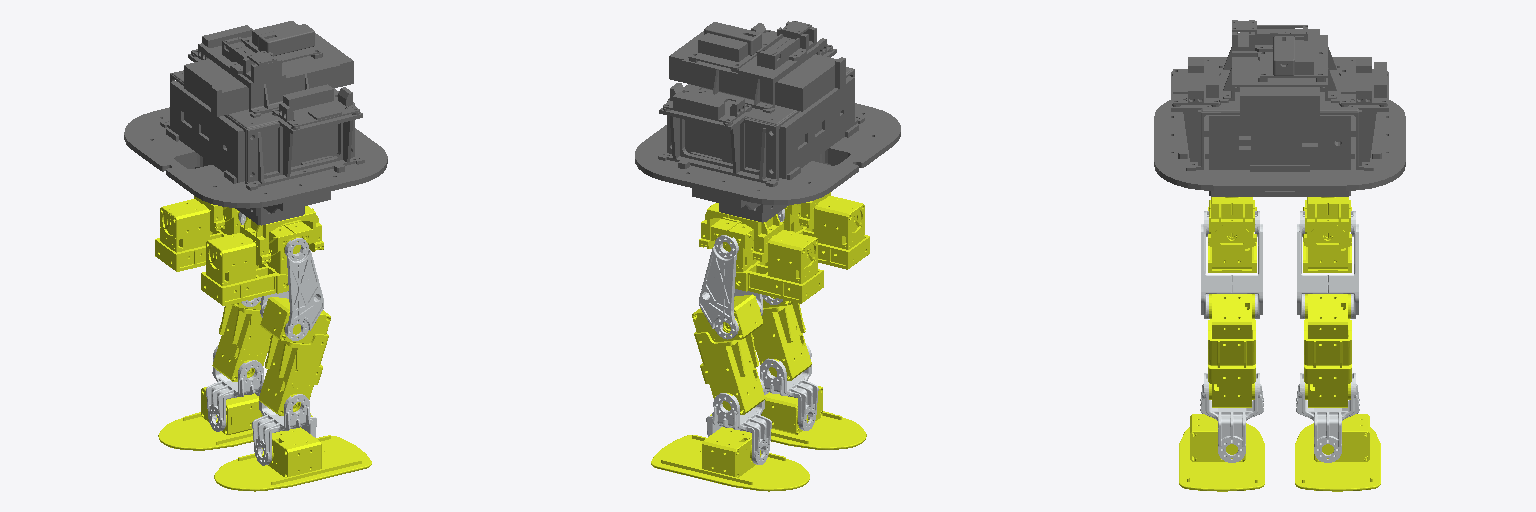
The robot description file, URDF, robot "exhx5_w_b_16":
<?xml version="1.0" encoding="utf-8"?>
<!-- This URDF was automatically created by SolidWorks to URDF Exporter! Originally created by [author] ([email redacted]) 
     Commit Version: 1.5.1-0-g916b5db  Build Version: 1.5.7152.31018
     For more information, please see http://wiki.ros.org/sw_urdf_exporter -->
<robot
  name="exhx5_w_b_16">
  <link
    name="body_link">
    <inertial>
      <origin
        xyz="0.00043545 0.00025536 0.10071"
        rpy="0 0 0" />
      <mass
        value="1.8238" />
      <inertia
        ixx="0.0025905"
        ixy="-5.6852E-06"
        ixz="-1.3106E-05"
        iyy="0.0024595"
        iyz="-1.261E-06"
        izz="0.0046407" />
    </inertial>
    <visual>
      <origin
        xyz="0 0 0"
        rpy="0 0 0" />
      <geometry>
        <mesh
          filename="../meshes/body_link.STL" />
      </geometry>
      <material
        name="">
        <color
          rgba="0.49804 0.49804 0.49804 1" />
      </material>
    </visual>
    <collision>
      <origin
        xyz="0 0 0"
        rpy="0 0 0" />
      <geometry>
        <mesh
          filename="../meshes/body_link.STL" />
      </geometry>
    </collision>
  </link>

  <link
    name="imu_link">
    <inertial>
      <origin
        xyz="-0.008387 1.336E-17 -0.0069463"
        rpy="0 0 0" />
      <mass
        value="0.0062931" />
      <inertia
        ixx="3.2242E-07"
        ixy="3.3527E-22"
        ixz="-6.9193E-08"
        iyy="9.2229E-07"
        iyz="-8.0392E-22"
        izz="1.1018E-06" />
    </inertial>
    <visual>
      <origin
        xyz="0 0 0"
        rpy="0 0 0" />
      <geometry>
        <mesh
          filename="../meshes/imu_link.STL" />
      </geometry>
      <material
        name="">
        <color
          rgba="0.79216 0.81961 0.93333 1" />
      </material>
    </visual>
    <collision>
      <origin
        xyz="0 0 0"
        rpy="0 0 0" />
      <geometry>
        <mesh
          filename="../meshes/imu_link.STL" />
      </geometry>
    </collision>
  </link>
  <joint
    name="imu"
    type="fixed">
    <origin
      xyz="0 0 0.0492"
      rpy="0 0 0" />
    <parent
      link="body_link" />
    <child
      link="imu_link" />
    <axis
      xyz="0 0 0" />
    <limit
      lower="-3.14"
      upper="3.14"
      effort="4"
      velocity="4" />
  </joint>
  <link
    name="l_hip_g_link">
    <inertial>
      <origin
        xyz="-0.0043797 -8.6604E-08 0.011813"
        rpy="0 0 0" />
      <mass
        value="0.061008" />
      <inertia
        ixx="1.167E-05"
        ixy="7.1767E-11"
        ixz="9.1442E-09"
        iyy="2.2342E-05"
        iyz="2.5177E-11"
        izz="2.4892E-05" />
    </inertial>
    <visual>
      <origin
        xyz="0 0 0"
        rpy="0 0 0" />
      <geometry>
        <mesh
          filename="../meshes/l_hip_g_link.STL" />
      </geometry>
      <material
        name="">
        <color
          rgba="0.9451 1 0.18431 1" />
      </material>
    </visual>
    <collision>
      <origin
        xyz="0 0 0"
        rpy="0 0 0" />
      <geometry>
        <mesh
          filename="../meshes/l_hip_g_link.STL" />
      </geometry>
    </collision>
  </link>
  <joint
    name="l_hip_g"
    type="fixed">
    <origin
      xyz=".001 0.04 0"
      rpy="0 0 0" />
    <parent
      link="body_link" />
    <child
      link="l_hip_g_link" />
    <axis
      xyz="0 0 0" />
  </joint>
  <link
    name="l_hip_roll_link">
    <inertial>
      <origin
        xyz="0.013831 0.00033457 0.025453"
        rpy="0 0 0" />
      <mass
        value="0.2969" />
      <inertia
        ixx="7.8136E-05"
        ixy="7.265E-07"
        ixz="-6.9809E-08"
        iyy="9.2183E-05"
        iyz="-5.6881E-11"
        izz="7.1034E-05" />
    </inertial>
    <visual>
      <origin
        xyz="0 0 0"
        rpy="0 0 0" />
      <geometry>
        <mesh
          filename="../meshes/l_hip_roll_link.STL" />
      </geometry>
      <material
        name="">
        <color
          rgba="0.9451 1 0.18431 1" />
      </material>
    </visual>
    <collision>
      <origin
        xyz="0 0 0"
        rpy="0 0 0" />
      <geometry>
        <mesh
          filename="../meshes/l_hip_roll_link.STL" />
      </geometry>
    </collision>
  </link>
  <joint
    name="l_hip_roll"
    type="revolute">
    <origin
      xyz="0 0 0"
      rpy="3.1416 1.5708 0" />
    <parent
      link="l_hip_g_link" />
    <child
      link="l_hip_roll_link" />
    <axis
      xyz="0 0 1" />
    <limit
      lower="-3.14"
      upper="3.14"
      effort="4"
      velocity="4" />
  </joint>
  <link
    name="l_hip_pitch_link">
    <inertial>
      <origin
        xyz="0.041225 -0.007321 -5.0713E-08"
        rpy="0 0 0" />
      <mass
        value="0.051592" />
      <inertia
        ixx="2.7959E-05"
        ixy="2.0752E-06"
        ixz="-8.0934E-11"
        iyy="4.8156E-05"
        iyz="3.6317E-11"
        izz="2.9604E-05" />
    </inertial>
    <visual>
      <origin
        xyz="0 0 0"
        rpy="0 0 0" />
      <geometry>
        <mesh
          filename="../meshes/l_hip_pitch_link.STL" />
      </geometry>
      <material
        name="">
        <color
          rgba="0.89804 0.91765 0.92941 1" />
      </material>
    </visual>
    <collision>
      <origin
        xyz="0 0 0"
        rpy="0 0 0" />
      <geometry>
        <mesh
          filename="../meshes/l_hip_pitch_link.STL" />
      </geometry>
    </collision>
  </link>
  <joint
    name="l_hip_pitch"
    type="revolute">
    <origin
      xyz="0 0 0"
      rpy="1.5708 0 0" />
    <parent
      link="l_hip_roll_link" />
    <child
      link="l_hip_pitch_link" />
    <axis
      xyz="0 0 1" />
    <limit
      lower="-3.14"
      upper="3.14"
      effort="4"
      velocity="4" />
  </joint>
  <link
    name="l_knee_link">
    <inertial>
      <origin
        xyz="0.033756 -0.0084189 -6.6115E-09"
        rpy="0 0 0" />
      <mass
        value="0.28878" />
      <inertia
        ixx="6.6724E-05"
        ixy="7.5004E-07"
        ixz="-8.4578E-07"
        iyy="6.5699E-05"
        iyz="4.1085E-07"
        izz="7.0381E-05" />
    </inertial>
    <visual>
      <origin
        xyz="0 0 0"
        rpy="0 0 0" />
      <geometry>
        <mesh
          filename="../meshes/l_knee_link.STL" />
      </geometry>
      <material
        name="">
        <color
          rgba="0.9451 1 0.18431 1" />
      </material>
    </visual>
    <collision>
      <origin
        xyz="0 0 0"
        rpy="0 0 0" />
      <geometry>
        <mesh
          filename="../meshes/l_knee_link.STL" />
      </geometry>
    </collision>
  </link>
  <joint
    name="l_knee"
    type="revolute">
    <origin
      xyz="0.075954 0 0"
      rpy="0 0 0" />
    <parent
      link="l_hip_pitch_link" />
    <child
      link="l_knee_link" />
    <axis
      xyz="0 0 1" />
    <limit
      lower="-3.14"
      upper="3.14"
      effort="4"
      velocity="4" />
  </joint>
  <link
    name="l_ank_pitch_link">
    <inertial>
      <origin
        xyz="0.022786 -7.3909E-09 -7.1981E-06"
        rpy="0 0 0" />
      <mass
        value="0.044772" />
      <inertia
        ixx="1.777E-05"
        ixy="8.555E-14"
        ixz="-3.3713E-09"
        iyy="1.7119E-05"
        iyz="1.7593E-11"
        izz="1.8661E-05" />
    </inertial>
    <visual>
      <origin
        xyz="0 0 0"
        rpy="0 0 0" />
      <geometry>
        <mesh
          filename="../meshes/l_ank_pitch_link.STL" />
      </geometry>
      <material
        name="">
        <color
          rgba="0.89804 0.91765 0.92941 1" />
      </material>
    </visual>
    <collision>
      <origin
        xyz="0 0 0"
        rpy="0 0 0" />
      <geometry>
        <mesh
          filename="../meshes/l_ank_pitch_link.STL" />
      </geometry>
    </collision>
  </link>
  <joint
    name="l_ank_pitch"
    type="revolute">
    <origin
      xyz="0.074602 0 0"
      rpy="3.1416 0 0" />
    <parent
      link="l_knee_link" />
    <child
      link="l_ank_pitch_link" />
    <axis
      xyz="0 0 1" />
    <limit
      lower="-3.14"
      upper="3.14"
      effort="4"
      velocity="4" />
  </joint>
  <link
    name="l_ank_roll_link">
    <inertial>
      <origin
        xyz="0.0047069 0.010728 0.0015299"
        rpy="0 0 0" />
      <mass
        value="0.16774" />
      <inertia
        ixx="0.00012039"
        ixy="-3.7428E-09"
        ixz="4.4069E-08"
        iyy="8.7735E-05"
        iyz="7.0469E-07"
        izz="4.7866E-05" />
    </inertial>
    <visual>
      <origin
        xyz="0 0 0"
        rpy="0 0 0" />
      <geometry>
        <mesh
          filename="../meshes/l_ank_roll_link.STL" />
      </geometry>
      <material
        name="">
        <color
          rgba="0.9451 1 0.18431 1" />
      </material>
    </visual>
    <collision>
      <origin
        xyz="0 0 0"
        rpy="0 0 0" />
      <geometry>
        <mesh
          filename="../meshes/l_ank_roll_link.STL" />
      </geometry>
    </collision>
  </link>
  <joint
    name="l_ank_roll"
    type="revolute">
    <origin
      xyz="0.0465 0 0"
      rpy="-1.5708 0 0" />
    <parent
      link="l_ank_pitch_link" />
    <child
      link="l_ank_roll_link" />
    <axis
      xyz="0 0 1" />
    <limit
      lower="-3.14"
      upper="3.14"
      effort="4"
      velocity="4" />
  </joint>
  <link
    name="r_hip_g_link">
    <inertial>
      <origin
        xyz="-0.0043797 -8.6604E-08 0.011813"
        rpy="0 0 0" />
      <mass
        value="0.061008" />
      <inertia
        ixx="1.167E-05"
        ixy="7.1767E-11"
        ixz="9.1442E-09"
        iyy="2.2342E-05"
        iyz="2.5177E-11"
        izz="2.4892E-05" />
    </inertial>
    <visual>
      <origin
        xyz="0 0 0"
        rpy="0 0 0" />
      <geometry>
        <mesh
          filename="../meshes/r_hip_g_link.STL" />
      </geometry>
      <material
        name="">
        <color
          rgba="0.9451 1 0.18431 1" />
      </material>
    </visual>
    <collision>
      <origin
        xyz="0 0 0"
        rpy="0 0 0" />
      <geometry>
        <mesh
          filename="../meshes/r_hip_g_link.STL" />
      </geometry>
    </collision>
  </link>
  <joint
    name="r_hip_g"
    type="fixed">
    <origin
      xyz=".001 -.04 0"
      rpy="0 0 0" />
    <parent
      link="body_link" />
    <child
      link="r_hip_g_link" />
    <axis
      xyz="0 0 0" />
  </joint>
  <link
    name="r_hip_roll_link">
    <inertial>
      <origin
        xyz="0.013831 0.00033457 0.025453"
        rpy="0 0 0" />
      <mass
        value="0.2969" />
      <inertia
        ixx="7.8136E-05"
        ixy="7.265E-07"
        ixz="-6.9809E-08"
        iyy="9.2183E-05"
        iyz="-5.6881E-11"
        izz="7.1034E-05" />
    </inertial>
    <visual>
      <origin
        xyz="0 0 0"
        rpy="0 0 0" />
      <geometry>
        <mesh
          filename="../meshes/r_hip_roll_link.STL" />
      </geometry>
      <material
        name="">
        <color
          rgba="0.9451 1 0.18431 1" />
      </material>
    </visual>
    <collision>
      <origin
        xyz="0 0 0"
        rpy="0 0 0" />
      <geometry>
        <mesh
          filename="../meshes/r_hip_roll_link.STL" />
      </geometry>
    </collision>
  </link>
  <joint
    name="r_hip_roll"
    type="revolute">
    <origin
      xyz="0 0 0"
      rpy="3.1416 1.5708 0" />
    <parent
      link="r_hip_g_link" />
    <child
      link="r_hip_roll_link" />
    <axis
      xyz="0 0 1" />
    <limit
      lower="-3.14"
      upper="3.14"
      effort="4"
      velocity="4" />
  </joint>
  <link
    name="r_hip_pitch_link">
    <inertial>
      <origin
        xyz="0.041225 0.007321 5.0713E-08"
        rpy="0 0 0" />
      <mass
        value="0.051592" />
      <inertia
        ixx="2.7959E-05"
        ixy="-2.0752E-06"
        ixz="8.0934E-11"
        iyy="4.8156E-05"
        iyz="3.6317E-11"
        izz="2.9604E-05" />
    </inertial>
    <visual>
      <origin
        xyz="0 0 0"
        rpy="0 0 0" />
      <geometry>
        <mesh
          filename="../meshes/r_hip_pitch_link.STL" />
      </geometry>
      <material
        name="">
        <color
          rgba="0.89804 0.91765 0.92941 1" />
      </material>
    </visual>
    <collision>
      <origin
        xyz="0 0 0"
        rpy="0 0 0" />
      <geometry>
        <mesh
          filename="../meshes/r_hip_pitch_link.STL" />
      </geometry>
    </collision>
  </link>
  <joint
    name="r_hip_pitch"
    type="revolute">
    <origin
      xyz="0 0 0"
      rpy="-1.5708 0 0" />
    <parent
      link="r_hip_roll_link" />
    <child
      link="r_hip_pitch_link" />
    <axis
      xyz="0 0 1" />
    <limit
      lower="-3.14"
      upper="3.14"
      effort="4"
      velocity="4" />
  </joint>
  <link
    name="r_knee_link">
    <inertial>
      <origin
        xyz="0.033757 0.0084176 6.6115E-09"
        rpy="0 0 0" />
      <mass
        value="0.28878" />
      <inertia
        ixx="6.6724E-05"
        ixy="-7.5008E-07"
        ixz="8.458E-07"
        iyy="6.5699E-05"
        iyz="4.1081E-07"
        izz="7.0381E-05" />
    </inertial>
    <visual>
      <origin
        xyz="0 0 0"
        rpy="0 0 0" />
      <geometry>
        <mesh
          filename="../meshes/r_knee_link.STL" />
      </geometry>
      <material
        name="">
        <color
          rgba="0.9451 1 0.18431 1" />
      </material>
    </visual>
    <collision>
      <origin
        xyz="0 0 0"
        rpy="0 0 0" />
      <geometry>
        <mesh
          filename="../meshes/r_knee_link.STL" />
      </geometry>
    </collision>
  </link>
  <joint
    name="r_knee"
    type="revolute">
    <origin
      xyz="0.075954 0 0"
      rpy="0 0 0" />
    <parent
      link="r_hip_pitch_link" />
    <child
      link="r_knee_link" />
    <axis
      xyz="0 0 1" />
    <limit
      lower="-3.14"
      upper="3.14"
      effort="4"
      velocity="4" />
  </joint>
  <link
    name="r_ank_pitch_link">
    <inertial>
      <origin
        xyz="0.025786 -7.3887E-09 -7.1981E-06"
        rpy="0 0 0" />
      <mass
        value="0.044772" />
      <inertia
        ixx="1.777E-05"
        ixy="8.5434E-14"
        ixz="-3.3713E-09"
        iyy="1.7119E-05"
        iyz="1.7592E-11"
        izz="1.8661E-05" />
    </inertial>
    <visual>
      <origin
        xyz="0 0 0"
        rpy="0 0 0" />
      <geometry>
        <mesh
          filename="../meshes/r_ank_pitch_link.STL" />
      </geometry>
      <material
        name="">
        <color
          rgba="0.89804 0.91765 0.92941 1" />
      </material>
    </visual>
    <collision>
      <origin
        xyz="0 0 0"
        rpy="0 0 0" />
      <geometry>
        <mesh
          filename="../meshes/r_ank_pitch_link.STL" />
      </geometry>
    </collision>
  </link>
  <joint
    name="r_ank_pitch"
    type="revolute">
    <origin
      xyz="0.071602 0 0"
      rpy="3.1416 0 0" />
    <parent
      link="r_knee_link" />
    <child
      link="r_ank_pitch_link" />
    <axis
      xyz="0 0 1" />
    <limit
      lower="-3.14"
      upper="3.14"
      effort="4"
      velocity="4" />
  </joint>
  <link
    name="r_ank_roll_link">
    <inertial>
      <origin
        xyz="0.0077069 -0.010728 0.0015299"
        rpy="0 0 0" />
      <mass
        value="0.16774" />
      <inertia
        ixx="0.00012039"
        ixy="3.743E-09"
        ixz="4.407E-08"
        iyy="8.7735E-05"
        iyz="-7.0467E-07"
        izz="4.7866E-05" />
    </inertial>
    <visual>
      <origin
        xyz="0 0 0"
        rpy="0 0 0" />
      <geometry>
        <mesh
          filename="../meshes/r_ank_roll_link.STL" />
      </geometry>
      <material
        name="">
        <color
          rgba="0.9451 1 0.18431 1" />
      </material>
    </visual>
    <collision>
      <origin
        xyz="0 0 0"
        rpy="0 0 0" />
      <geometry>
        <mesh
          filename="../meshes/r_ank_roll_link.STL" />
      </geometry>
    </collision>
  </link>
  <joint
    name="r_ank_roll"
    type="revolute">
    <origin
      xyz="0.0465 0 0"
      rpy="1.5708 0 0" />
    <parent
      link="r_ank_pitch_link" />
    <child
      link="r_ank_roll_link" />
    <axis
      xyz="0 0 1" />
    <limit
      lower="-3.14"
      upper="3.14"
      effort="4"
      velocity="4" />
  </joint>
  <transmission name="r_hip_roll_tran">
    <type>transmission_interface/SimpleTransmission</type>
    <joint name="r_hip_roll">
      <hardwareInterface>hardware_interface/EffortJointInterface</hardwareInterface>
    </joint>
    <actuator name="r_hip_roll_motor">
      <hardwareInterface>hardware_interface/EffortJointInterface</hardwareInterface>
      <mechanicalReduction>1</mechanicalReduction>
    </actuator>
  </transmission>
  <transmission name="r_hip_pitch_tran">
    <type>transmission_interface/SimpleTransmission</type>
    <joint name="r_hip_pitch">
      <hardwareInterface>hardware_interface/EffortJointInterface</hardwareInterface>
    </joint>
    <actuator name="r_hip_pitch_motor">
      <hardwareInterface>hardware_interface/EffortJointInterface</hardwareInterface>
      <mechanicalReduction>1</mechanicalReduction>
    </actuator>
  </transmission>
  <transmission name="r_knee_tran">
    <type>transmission_interface/SimpleTransmission</type>
    <joint name="r_knee">
      <hardwareInterface>hardware_interface/EffortJointInterface</hardwareInterface>
    </joint>
    <actuator name="r_knee_motor">
      <hardwareInterface>hardware_interface/EffortJointInterface</hardwareInterface>
      <mechanicalReduction>1</mechanicalReduction>
    </actuator>
  </transmission>
  <transmission name="r_ank_pitch_tran">
    <type>transmission_interface/SimpleTransmission</type>
    <joint name="r_ank_pitch">
      <hardwareInterface>hardware_interface/EffortJointInterface</hardwareInterface>
    </joint>
    <actuator name="r_ank_pitch_motor">
      <hardwareInterface>hardware_interface/EffortJointInterface</hardwareInterface>
      <mechanicalReduction>1</mechanicalReduction>
    </actuator>
  </transmission>
  <transmission name="r_ank_roll_tran">
    <type>transmission_interface/SimpleTransmission</type>
    <joint name="r_ank_roll">
      <hardwareInterface>hardware_interface/EffortJointInterface</hardwareInterface>
    </joint>
    <actuator name="r_ank_roll_motor">
      <hardwareInterface>hardware_interface/EffortJointInterface</hardwareInterface>
      <mechanicalReduction>1</mechanicalReduction>
    </actuator>
  </transmission>
  <transmission name="l_hip_roll_tran">
    <type>transmission_interface/SimpleTransmission</type>
    <joint name="l_hip_roll">
      <hardwareInterface>hardware_interface/EffortJointInterface</hardwareInterface>
    </joint>
    <actuator name="l_hip_roll_motor">
      <hardwareInterface>hardware_interface/EffortJointInterface</hardwareInterface>
      <mechanicalReduction>1</mechanicalReduction>
    </actuator>
  </transmission>
  <transmission name="l_hip_pitch_tran">
    <type>transmission_interface/SimpleTransmission</type>
    <joint name="l_hip_pitch">
      <hardwareInterface>hardware_interface/EffortJointInterface</hardwareInterface>
    </joint>
    <actuator name="l_hip_pitch_motor">
      <hardwareInterface>hardware_interface/EffortJointInterface</hardwareInterface>
      <mechanicalReduction>1</mechanicalReduction>
    </actuator>
  </transmission>
  <transmission name="l_knee_tran">
    <type>transmission_interface/SimpleTransmission</type>
    <joint name="l_knee">
      <hardwareInterface>hardware_interface/EffortJointInterface</hardwareInterface>
    </joint>
    <actuator name="l_knee_motor">
      <hardwareInterface>hardware_interface/EffortJointInterface</hardwareInterface>
      <mechanicalReduction>1</mechanicalReduction>
    </actuator>
  </transmission>
  <transmission name="l_ank_pitch_tran">
    <type>transmission_interface/SimpleTransmission</type>
    <joint name="l_ank_pitch">
      <hardwareInterface>hardware_interface/EffortJointInterface</hardwareInterface>
    </joint>
    <actuator name="l_ank_pitch_motor">
      <hardwareInterface>hardware_interface/EffortJointInterface</hardwareInterface>
      <mechanicalReduction>1</mechanicalReduction>
    </actuator>
  </transmission>
  <transmission name="l_ank_roll_tran">
    <type>transmission_interface/SimpleTransmission</type>
    <joint name="l_ank_roll">
      <hardwareInterface>hardware_interface/EffortJointInterface</hardwareInterface>
    </joint>
    <actuator name="l_ank_roll_motor">
      <hardwareInterface>hardware_interface/EffortJointInterface</hardwareInterface>
      <mechanicalReduction>1</mechanicalReduction>
    </actuator>
  </transmission>
</robot>

--- Facts derived from the render (not from the file) ---
The picture shows the robot from 3 angles, left to right: view 1: azimuth 30°, elevation 25°; view 2: azimuth 150°, elevation 25°; view 3: azimuth 270°, elevation 25°; orthographic projection.
Model exhx5_w_b_16 with 14 links and 13 joints (10 revolute, 3 fixed), rooted at body_link, posed all joints at 0.
Links seen in each view (by area): view 1: body_link, r_ank_roll_link, r_hip_roll_link, r_knee_link, l_hip_roll_link, l_ank_roll_link, l_knee_link, r_hip_pitch_link, r_ank_pitch_link, l_ank_pitch_link, r_hip_g_link; view 2: body_link, l_ank_roll_link, l_hip_roll_link, l_knee_link, r_hip_roll_link, r_ank_roll_link, r_knee_link, l_hip_pitch_link, l_ank_pitch_link, r_ank_pitch_link, l_hip_g_link; view 3: body_link, l_knee_link, r_knee_link, l_ank_roll_link, r_ank_roll_link, l_hip_pitch_link, r_hip_pitch_link, l_hip_g_link, r_hip_g_link, l_ank_pitch_link, r_ank_pitch_link, l_hip_roll_link (+1 smaller).
Link boxes in pixels (x1=…): body_link: x1=124, y1=21, x2=387, y2=225; r_ank_roll_link: x1=214, y1=427, x2=371, y2=491; r_hip_roll_link: x1=201, y1=220, x2=312, y2=305; r_knee_link: x1=259, y1=297, x2=330, y2=415; l_hip_roll_link: x1=155, y1=199, x2=240, y2=271; l_ank_roll_link: x1=158, y1=387, x2=312, y2=450; l_knee_link: x1=212, y1=299, x2=271, y2=381; r_hip_pitch_link: x1=260, y1=238, x2=323, y2=340; r_ank_pitch_link: x1=252, y1=379, x2=316, y2=465; l_ank_pitch_link: x1=206, y1=346, x2=263, y2=431; r_hip_g_link: x1=240, y1=206, x2=323, y2=265; body_link: x1=635, y1=21, x2=900, y2=222; l_ank_roll_link: x1=651, y1=427, x2=809, y2=491; l_hip_roll_link: x1=711, y1=217, x2=823, y2=303; l_knee_link: x1=692, y1=294, x2=764, y2=414; r_hip_roll_link: x1=783, y1=196, x2=869, y2=269; r_ank_roll_link: x1=710, y1=386, x2=866, y2=449; r_knee_link: x1=752, y1=297, x2=811, y2=380; l_hip_pitch_link: x1=699, y1=235, x2=762, y2=339; l_ank_pitch_link: x1=706, y1=378, x2=771, y2=464; r_ank_pitch_link: x1=760, y1=344, x2=818, y2=430; l_hip_g_link: x1=699, y1=203, x2=783, y2=262; body_link: x1=1154, y1=20, x2=1405, y2=196; l_knee_link: x1=1304, y1=294, x2=1351, y2=407; r_knee_link: x1=1208, y1=294, x2=1255, y2=407; l_ank_roll_link: x1=1295, y1=414, x2=1380, y2=491; r_ank_roll_link: x1=1179, y1=414, x2=1264, y2=491; l_hip_pitch_link: x1=1297, y1=211, x2=1358, y2=318; r_hip_pitch_link: x1=1201, y1=211, x2=1262, y2=318; l_hip_g_link: x1=1303, y1=197, x2=1351, y2=247; r_hip_g_link: x1=1208, y1=197, x2=1256, y2=247; l_ank_pitch_link: x1=1296, y1=373, x2=1359, y2=462; r_ank_pitch_link: x1=1200, y1=373, x2=1263, y2=462; l_hip_roll_link: x1=1303, y1=200, x2=1351, y2=272.
Size in the robot's own frame: 0.185 by 0.21 by 0.3893 metres.
14 mesh visuals loaded from 14 distinct referenced files (14 binary STL).